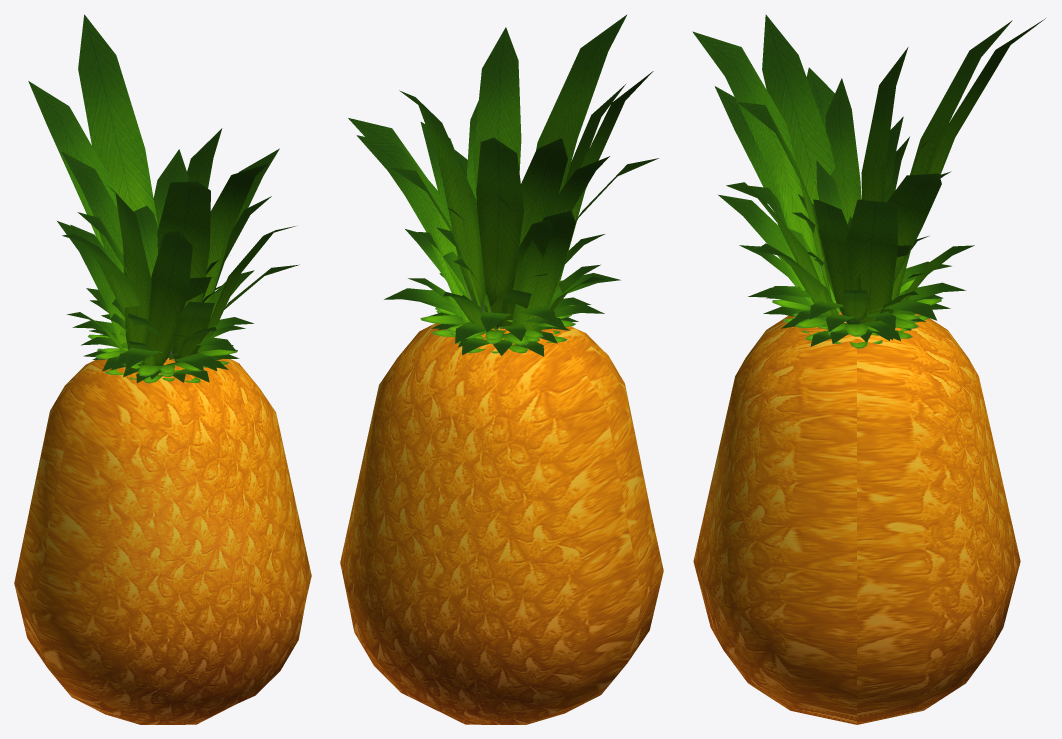
Rendered from Pineapple.fbx.
The picture shows the model from 3 angles, left to right: view 1: azimuth 30°, elevation 25°; view 2: azimuth 150°, elevation 25°; view 3: azimuth 270°, elevation 25°; orthographic projection. The views are drawn at different scales.
Visible parts, largest first — view 1: Sphere, Polygon_9, Polygon_5_9, Polygon_6_9, Polygon_18, Polygon_4_9, Polygon_19, Polygon_12, Polygon_11; view 2: Sphere, Polygon_9, Polygon_5_9, Polygon_6_9, Polygon_18, Polygon_4_9, Polygon_19, Polygon_3_9, Polygon_13, Polygon_12, Polygon_17, Polygon_1_8 (+1 smaller); view 3: Sphere, Polygon_9, Polygon_5_9, Polygon_6_9, Polygon_18, Polygon_4_9, Polygon_19, Polygon_3_9, Polygon_12, Polygon_10, Polygon_20.
Boxes of the visible parts, x1=… form: Sphere: x1=14, y1=358, x2=311, y2=724; Polygon_9: x1=28, y1=14, x2=268, y2=355; Polygon_5_9: x1=57, y1=148, x2=299, y2=366; Polygon_6_9: x1=61, y1=151, x2=297, y2=361; Polygon_18: x1=72, y1=300, x2=253, y2=369; Polygon_4_9: x1=70, y1=215, x2=220, y2=360; Polygon_19: x1=81, y1=325, x2=245, y2=371; Polygon_12: x1=66, y1=270, x2=254, y2=352; Polygon_11: x1=177, y1=327, x2=216, y2=358; Sphere: x1=340, y1=323, x2=663, y2=724; Polygon_9: x1=356, y1=14, x2=659, y2=311; Polygon_5_9: x1=348, y1=71, x2=653, y2=331; Polygon_6_9: x1=420, y1=100, x2=609, y2=311; Polygon_18: x1=384, y1=273, x2=620, y2=332; Polygon_4_9: x1=436, y1=193, x2=604, y2=330; Polygon_19: x1=439, y1=273, x2=590, y2=343; Polygon_3_9: x1=418, y1=232, x2=547, y2=326; Polygon_13: x1=408, y1=264, x2=600, y2=322; Polygon_12: x1=405, y1=229, x2=604, y2=310; Polygon_17: x1=403, y1=299, x2=604, y2=321; Polygon_1_8: x1=500, y1=289, x2=531, y2=328; Sphere: x1=693, y1=312, x2=1020, y2=724; Polygon_9: x1=692, y1=18, x2=1045, y2=298; Polygon_5_9: x1=714, y1=14, x2=951, y2=323; Polygon_6_9: x1=718, y1=47, x2=943, y2=324; Polygon_18: x1=757, y1=261, x2=951, y2=320; Polygon_4_9: x1=748, y1=134, x2=934, y2=286; Polygon_19: x1=748, y1=282, x2=966, y2=331; Polygon_3_9: x1=798, y1=160, x2=929, y2=276; Polygon_12: x1=841, y1=290, x2=870, y2=322; Polygon_10: x1=903, y1=245, x2=974, y2=300; Polygon_20: x1=763, y1=303, x2=950, y2=343.
Bounding box in the file's own units: 200 × 470 × 218.
2 materials, 2 textured.
